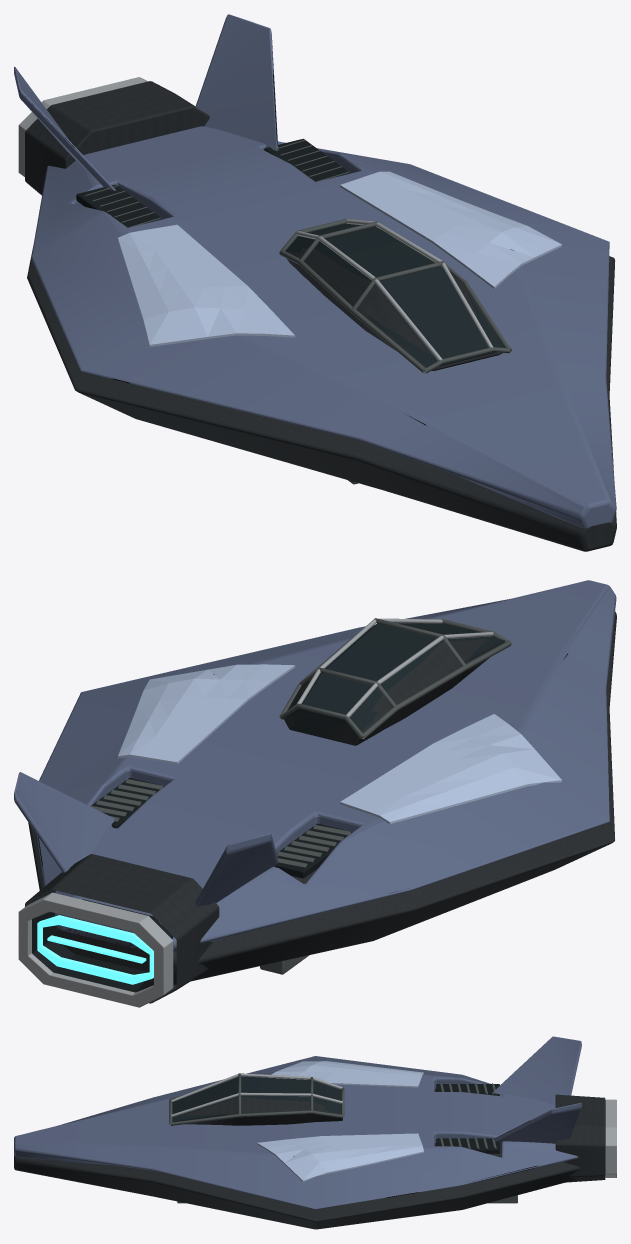
The model's file is kite.glb.
3 renders of one model, top to bottom at view 1: azimuth 30°, elevation 25°; view 2: azimuth 150°, elevation 25°; view 3: azimuth 270°, elevation 25°, orthographic. The views are drawn at different scales.
Visible parts, largest first — view 1: kite_Ceramic_Geometry, kite_carbon_Geometry, kite_accent_Geometry, kite_glass_Geometry, kite_edge_Geometry, kite_vent_Geometry, kite_metal_Geometry; view 2: kite_Ceramic_Geometry, kite_carbon_Geometry, kite_accent_Geometry, kite_metal_Geometry, kite_glass_Geometry, kite_edge_Geometry, kite_vent_Geometry, kite_Ion_Geometry; view 3: kite_Ceramic_Geometry, kite_carbon_Geometry, kite_accent_Geometry, kite_glass_Geometry, kite_metal_Geometry, kite_edge_Geometry, kite_vent_Geometry.
Part boxes in pixels (x1,y1,x2,y2): kite_Ceramic_Geometry: (14, 14, 616, 528); kite_carbon_Geometry: (25, 81, 616, 551); kite_accent_Geometry: (118, 171, 561, 346); kite_glass_Geometry: (286, 223, 504, 367); kite_edge_Geometry: (83, 139, 511, 484); kite_vent_Geometry: (76, 138, 350, 227); kite_metal_Geometry: (18, 77, 493, 360); kite_Ceramic_Geometry: (14, 580, 616, 953); kite_carbon_Geometry: (25, 611, 616, 1003); kite_accent_Geometry: (118, 664, 561, 824); kite_metal_Geometry: (18, 618, 493, 1007); kite_glass_Geometry: (286, 623, 505, 741); kite_edge_Geometry: (90, 618, 511, 974); kite_vent_Geometry: (32, 777, 352, 992); kite_Ion_Geometry: (37, 915, 153, 984); kite_Ceramic_Geometry: (14, 1036, 581, 1209); kite_carbon_Geometry: (14, 1088, 605, 1229); kite_accent_Geometry: (257, 1061, 423, 1181); kite_glass_Geometry: (172, 1076, 341, 1121); kite_metal_Geometry: (171, 1073, 616, 1177); kite_edge_Geometry: (169, 1073, 517, 1203); kite_vent_Geometry: (436, 1084, 499, 1153).
Bounding box in the file's own units: 3.84 × 1.16 × 6.28.
Materials: 9 (3 with a texture image).
